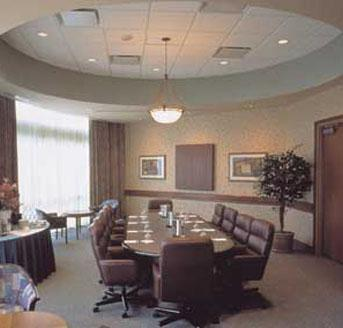Matera: (263, 147, 311, 254)
Puerta: (318, 119, 342, 260)
Ventana: (7, 98, 98, 218)
